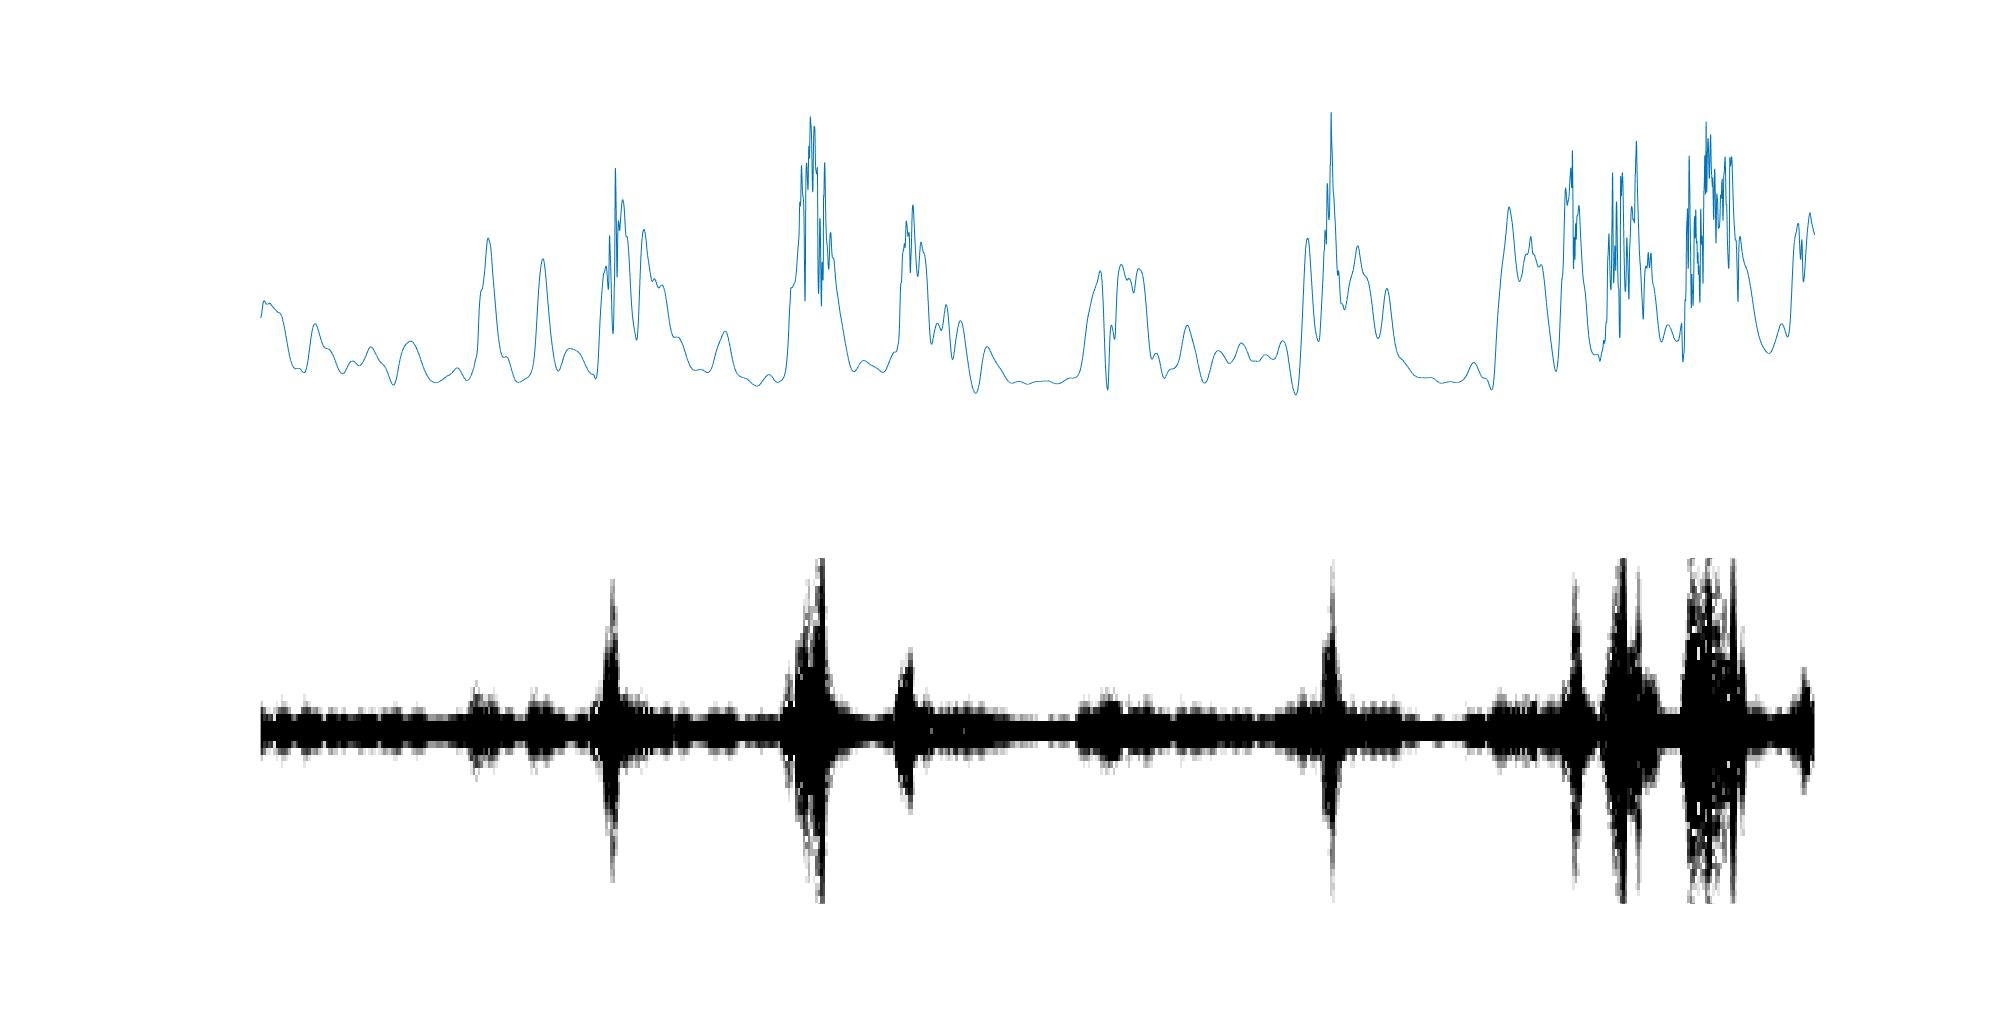kangaroo: (1676, 551, 1752, 920), (1600, 555, 1663, 915), (781, 551, 844, 908), (1304, 552, 1363, 903), (591, 575, 635, 892), (1557, 568, 1588, 886)
